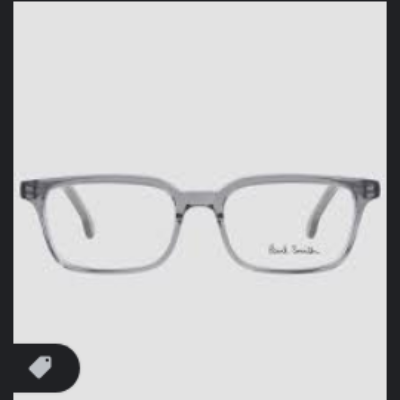glasses: (17, 168, 383, 286)
